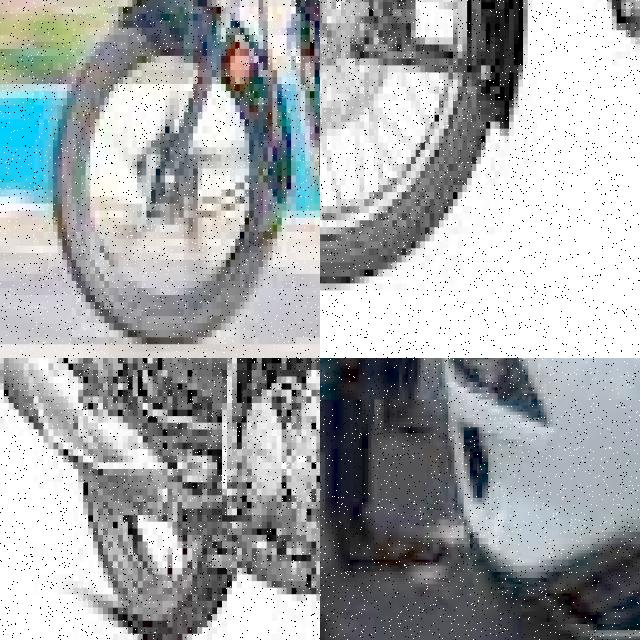bike: (34, 0, 320, 358), (320, 0, 640, 297), (0, 358, 320, 640)
car: (436, 358, 640, 640)
